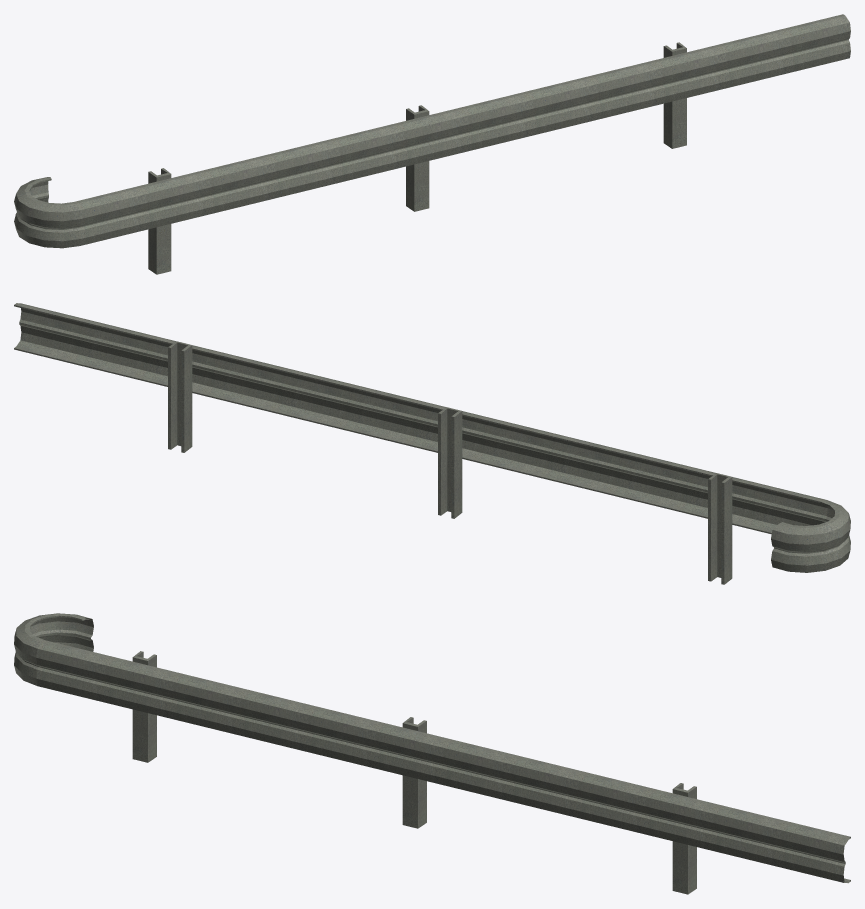
Rendered from CIV_WBarrier_Straight_01.fbx.
The picture shows the model from 3 angles, top to bottom: view 1: azimuth 30°, elevation 25°; view 2: azimuth 150°, elevation 25°; view 3: azimuth 330°, elevation 25°; orthographic projection. The views are drawn at different scales.
Parts seen in each view (by area): view 1: CIV_WBarrier_Straight_01; view 2: CIV_WBarrier_Straight_01; view 3: CIV_WBarrier_Straight_01.
Boxes of the visible parts, left/top/right/bottom form: CIV_WBarrier_Straight_01: left=14, top=14, right=850, bottom=274; CIV_WBarrier_Straight_01: left=14, top=303, right=850, bottom=584; CIV_WBarrier_Straight_01: left=14, top=613, right=850, bottom=894.
Size of the model in its own units: 627 by 72.71 by 60.18.
